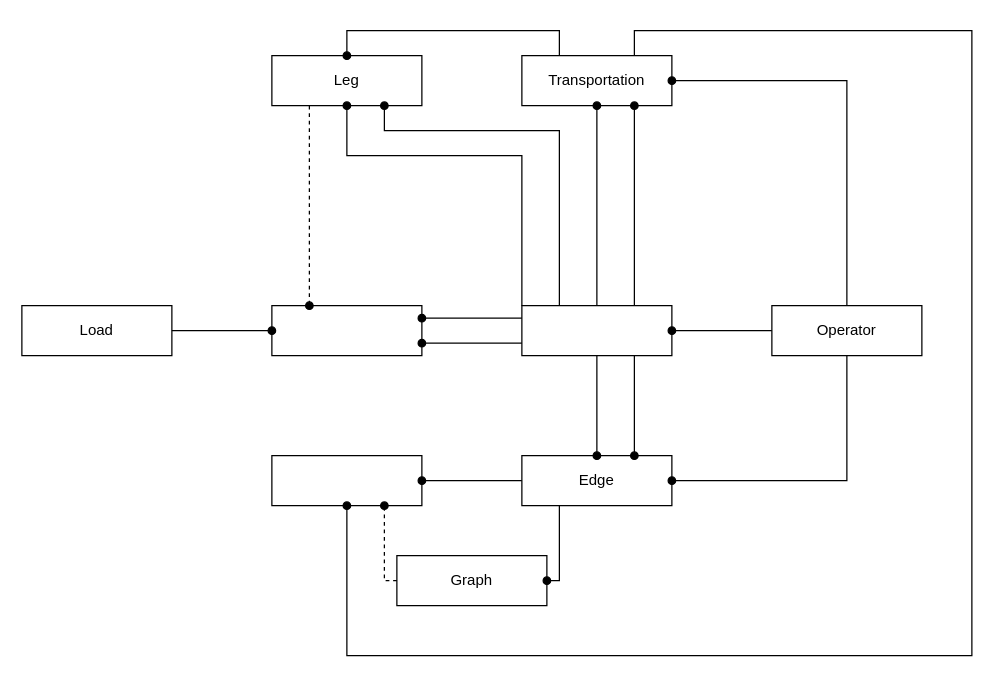
Image size: 1004x688. Some labels were removed from this diagram. The centre of each missing label's shape, as x and y in pixels:
"Edgetime" goes at pixel 346 480.
"Node" goes at pixel 596 330.
"Trip" goes at pixel 346 330.
